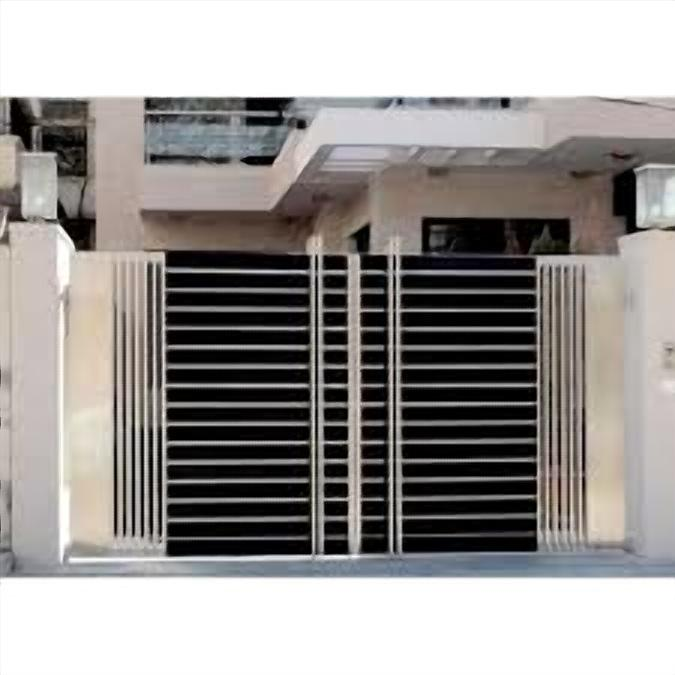Building: (0, 96, 675, 441)
Gate: (65, 245, 626, 557)
Window-without-grill: (421, 215, 574, 302)
